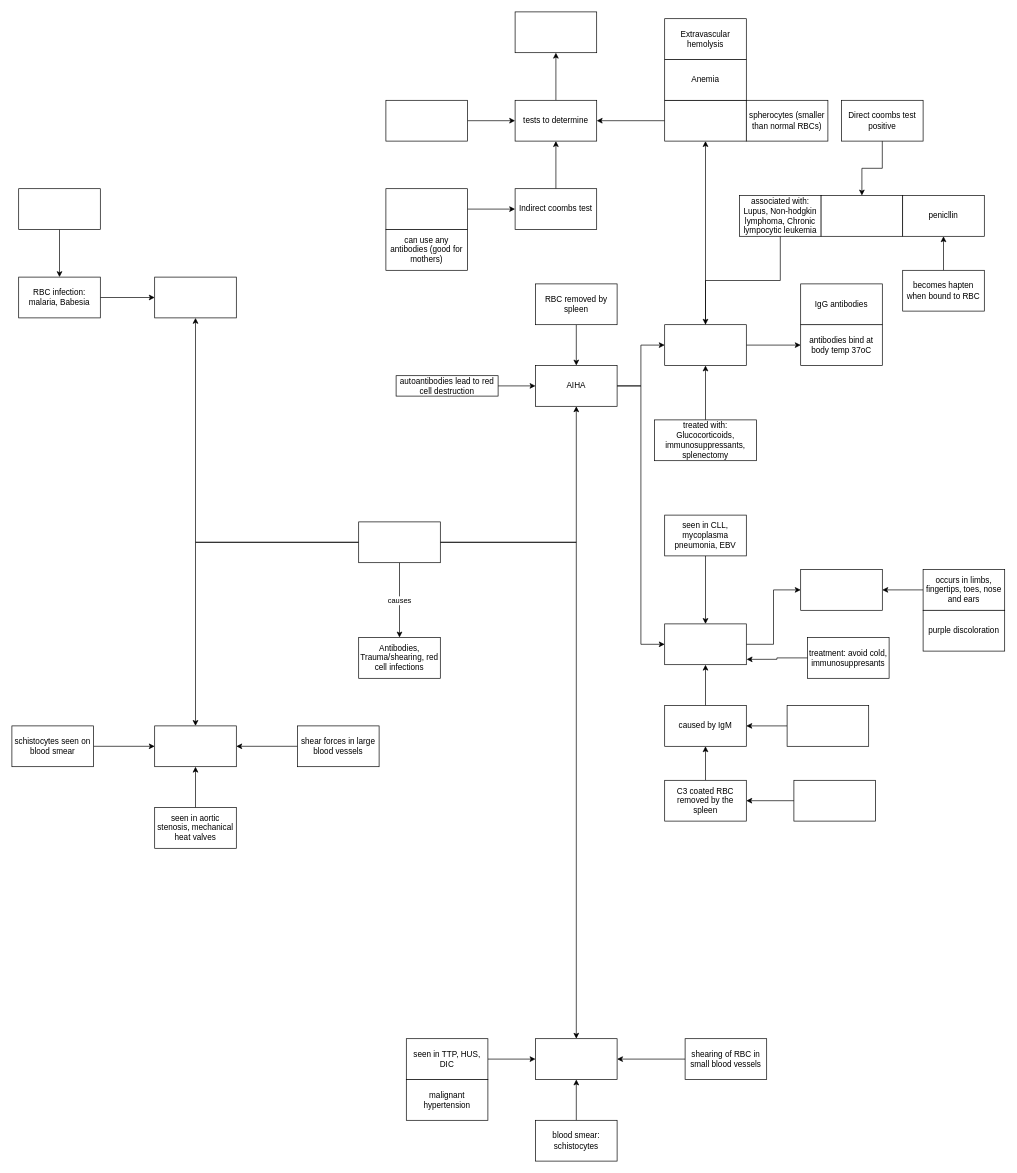
The diagram is 1017 pixels wide and 1173 high, and some of its shapes have lost their labels. The box of each missing label's shape, as (x1, y1, x2, y2) in pixels:
alpha-methyldopa: (820, 195, 903, 236)
Antibodies bind to RBC less than 30c: (800, 569, 882, 610)
Cold: (664, 623, 746, 665)
DAT or Coombs test is a test for RBCs IgG antibodies: (385, 100, 468, 141)
Extrinsic Hemolysis: (358, 521, 440, 563)
Infection: (154, 276, 236, 318)
leaves C3 on RBC DAT positive only for C3: (786, 705, 869, 746)
less likely to see spherocytosis because RBC engulfed whole: (793, 780, 876, 821)
MAHA: (535, 1038, 617, 1080)
Mechanical: (154, 725, 236, 767)
removal of infected cells by spleen or explosion: (18, 188, 100, 230)
reticulocyte count is normal: (514, 11, 597, 53)
Symptoms: (664, 100, 746, 141)
test for antibodies in the serum for antibodies for RBC: (385, 188, 468, 230)
Warm: (664, 324, 746, 366)
